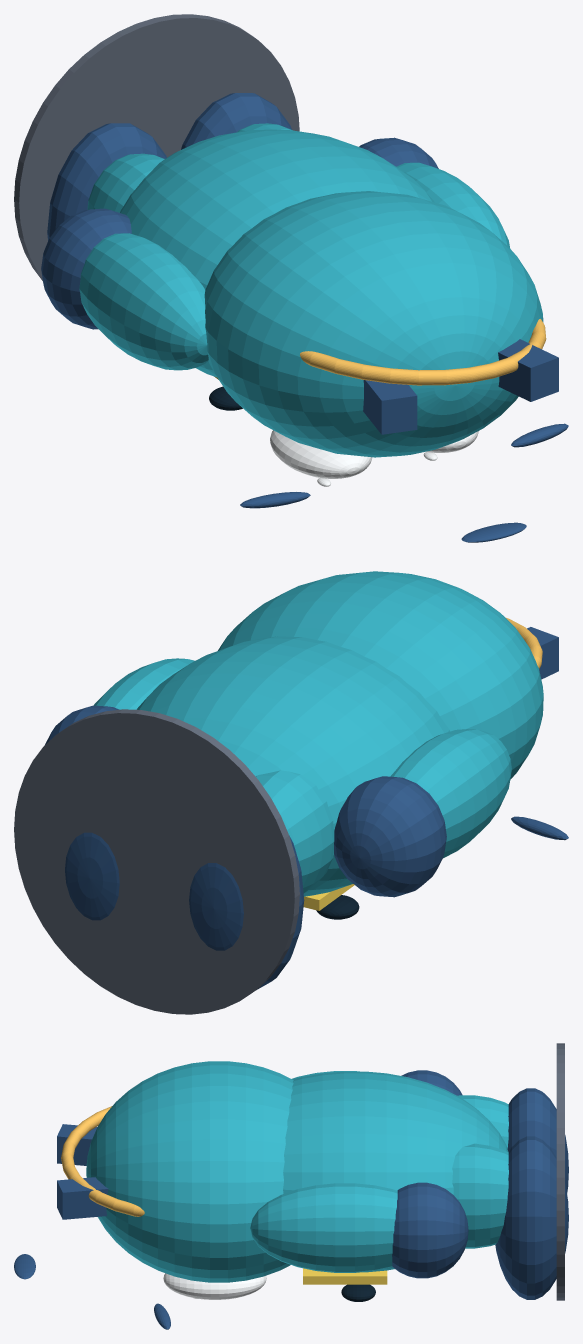
The model's file is luma_reaction_activity.glb.
3 views of the same model, one above another, from view 1: azimuth 30°, elevation 25°; view 2: azimuth 150°, elevation 25°; view 3: azimuth 270°, elevation 25° (orthographic). The views are drawn at different scales.
Parts seen in each view (by area): view 1: CHR_Head, CHR_DisplayBase, CHR_Torso, CHR_LeftArm, CHR_LeftHand, CHR_LeftFoot, CHR_StatusRing, CHR_RightFoot, CHR_RightArm, CHR_RightAntenna, CHR_LeftEyeWhite, CHR_LeftAntenna (+5 smaller); view 2: CHR_DisplayBase, CHR_Torso, CHR_Head, CHR_LeftHand, CHR_LeftArm, CHR_LeftLeg, CHR_LeftFoot, CHR_RightFoot, CHR_RightArm, CHR_LeftAntenna, CHR_LeftPupil, CHR_LeftBrow (+2 smaller); view 3: CHR_Head, CHR_Torso, CHR_RightArm, CHR_RightFoot, CHR_RightHand, CHR_RightLeg, CHR_LeftFoot, CHR_DisplayBase, CHR_StatusRing, CHR_RightEyeWhite, CHR_RightAntenna, CHR_ChestSensor (+5 smaller).
Boxes of the visible parts, box(x1,y1,x2,y2) form: CHR_Head: box(204, 191, 543, 457); CHR_DisplayBase: box(14, 14, 299, 280); CHR_Torso: box(120, 129, 434, 377); CHR_LeftArm: box(79, 233, 208, 370); CHR_LeftHand: box(41, 208, 131, 329); CHR_LeftFoot: box(47, 123, 166, 240); CHR_StatusRing: box(300, 319, 546, 385); CHR_RightFoot: box(181, 93, 291, 149); CHR_RightArm: box(396, 162, 510, 248); CHR_RightAntenna: box(498, 339, 558, 401); CHR_LeftEyeWhite: box(270, 430, 372, 478); CHR_LeftAntenna: box(363, 380, 417, 434); CHR_DisplayBase: box(14, 709, 299, 1014); CHR_Torso: box(137, 636, 449, 896); CHR_Head: box(218, 571, 543, 779); CHR_LeftHand: box(334, 776, 446, 897); CHR_LeftArm: box(390, 729, 511, 858); CHR_LeftLeg: box(255, 770, 334, 893); CHR_LeftFoot: box(189, 835, 304, 989); CHR_RightFoot: box(65, 832, 119, 920); CHR_RightArm: box(93, 658, 194, 709); CHR_LeftAntenna: box(527, 627, 558, 679); CHR_LeftPupil: box(316, 895, 359, 919); CHR_LeftBrow: box(511, 816, 568, 840); CHR_Head: box(86, 1061, 293, 1282); CHR_Torso: box(283, 1071, 508, 1272); CHR_RightArm: box(250, 1183, 397, 1272); CHR_RightFoot: box(495, 1136, 568, 1299); CHR_RightHand: box(392, 1182, 468, 1278); CHR_RightLeg: box(452, 1143, 508, 1248); CHR_LeftFoot: box(507, 1088, 568, 1193); CHR_DisplayBase: box(556, 1043, 564, 1300); CHR_StatusRing: box(61, 1106, 144, 1216); CHR_RightEyeWhite: box(163, 1273, 266, 1299); CHR_RightAntenna: box(57, 1177, 108, 1219); CHR_ChestSensor: box(303, 1268, 387, 1284).
Size of the model in its own units: 2.64 by 1.9 by 4.09.
